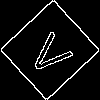V: (25, 25, 81, 80)
